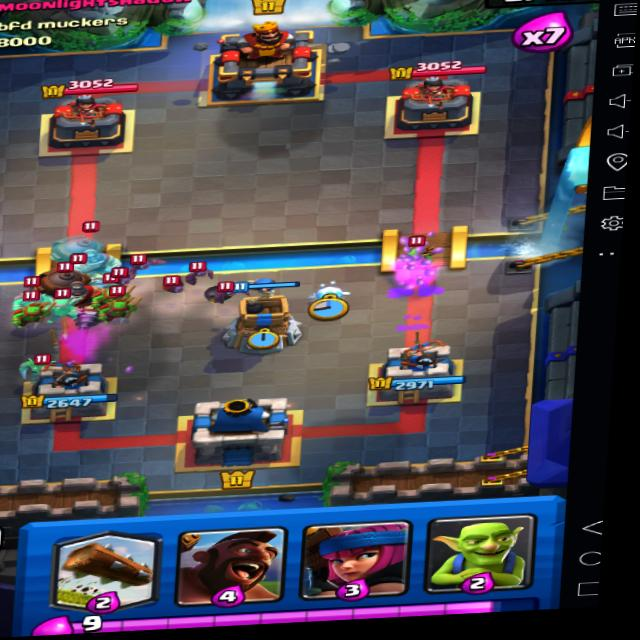bats: (210, 279, 251, 308), (151, 273, 202, 294), (125, 251, 164, 276), (179, 265, 220, 288)
mighty-miner: (41, 260, 121, 329)
spear-goblin: (88, 291, 138, 321), (392, 234, 437, 265), (12, 303, 53, 327)
